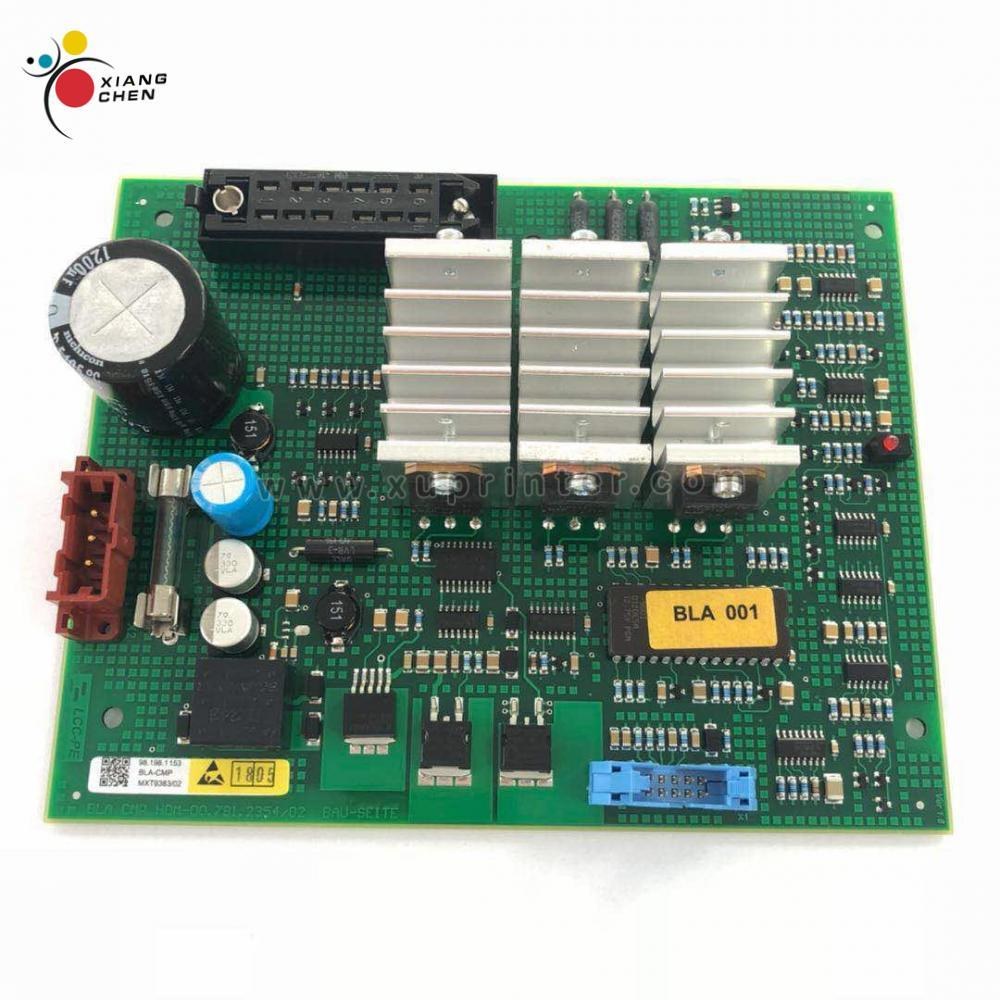capacitor: (177, 438, 299, 542)
